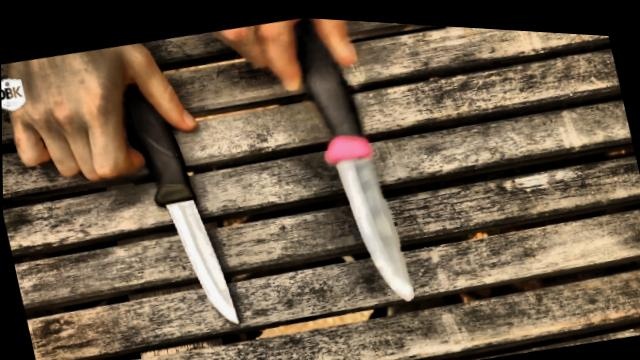knife: (262, 17, 423, 325), (78, 94, 253, 360)
